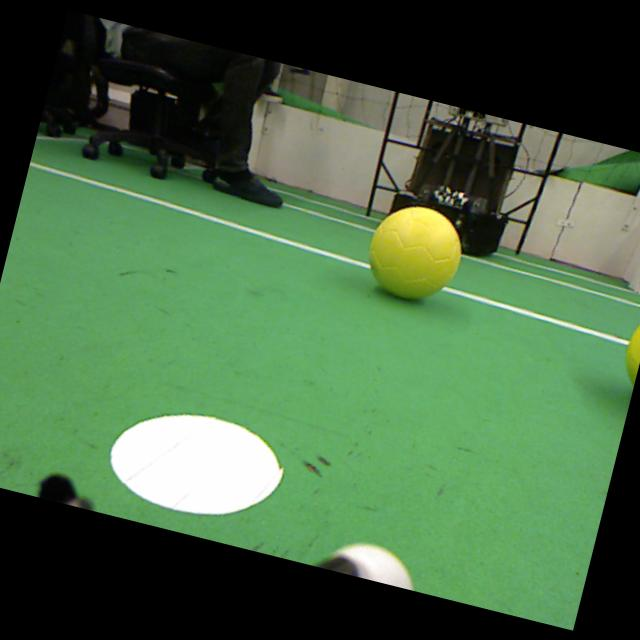ball: (368, 206, 461, 299)
robot: (388, 105, 521, 258)
